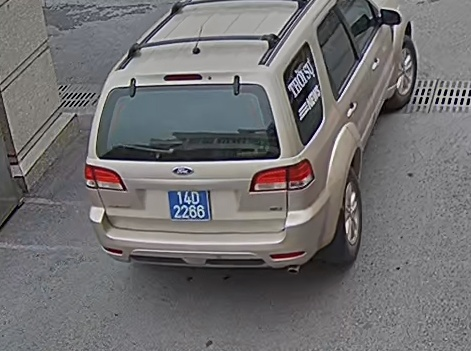vehicle plate: (166, 188, 213, 224)
